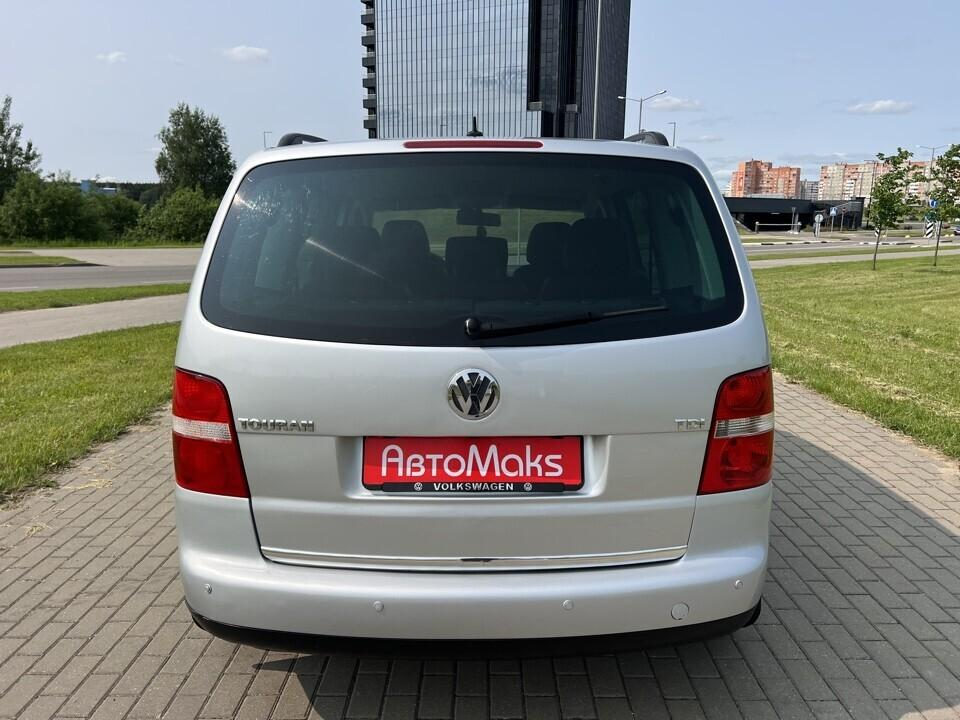Touran_2003-2006: (162, 134, 776, 654)
